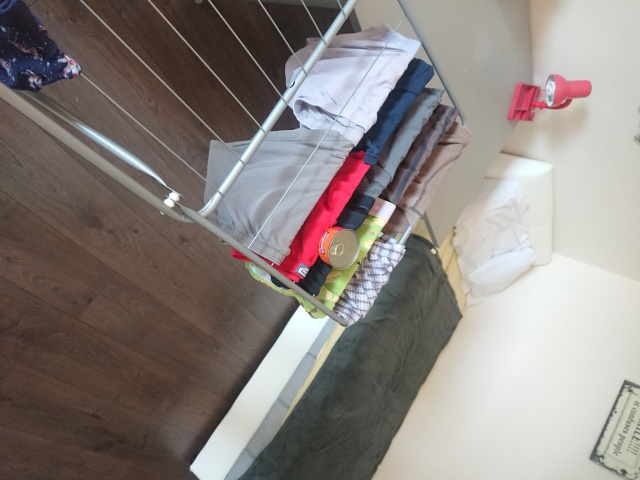Gavrilovic Pork Liver Pate 100g: (315, 223, 361, 272)
